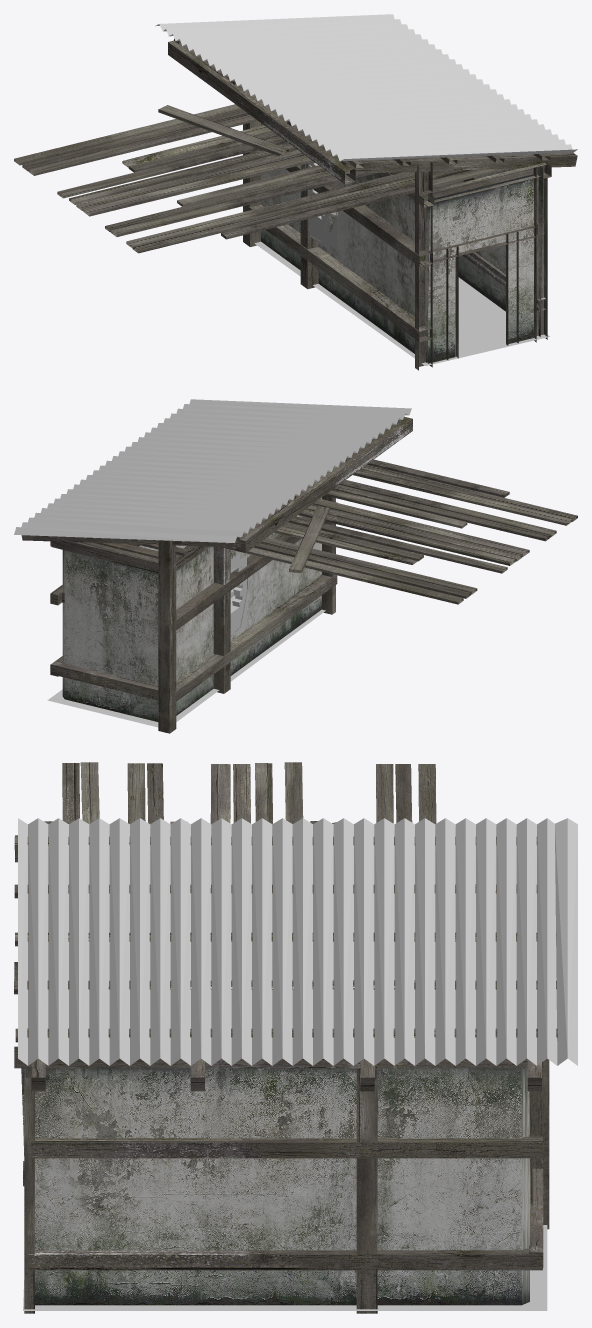
The model's file is Pantry_.fbx.
3 views of the same model, one above another, from view 1: azimuth 30°, elevation 25°; view 2: azimuth 150°, elevation 25°; view 3: azimuth 270°, elevation 25° (orthographic). The views are drawn at different scales.
Visible parts, largest first — view 1: Pantry_.001; view 2: Pantry_.001; view 3: Pantry_.001.
Boxes of the visible parts, x1,y1,x2,y2 form: Pantry_.001: [14, 14, 577, 370]; Pantry_.001: [14, 399, 577, 733]; Pantry_.001: [14, 762, 577, 1313].
Size of the model in its own units: 906 by 469 by 693.
